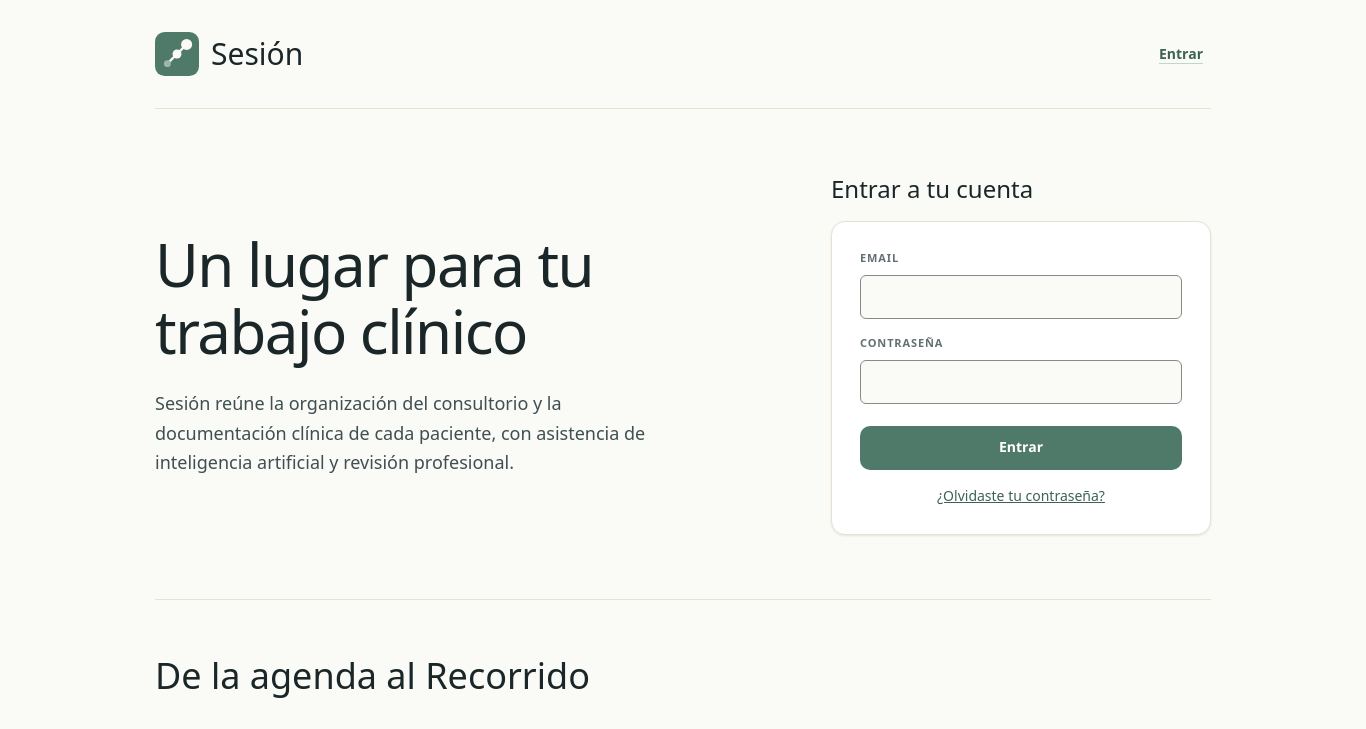
Test: Pantalla de entrada › al entrar borra la agenda local de quien estuvo antes, y no si el ingreso falla
Type "prueba@example.test" into the field labelled "Email" at (1021, 297), box [861,276,1181,318]
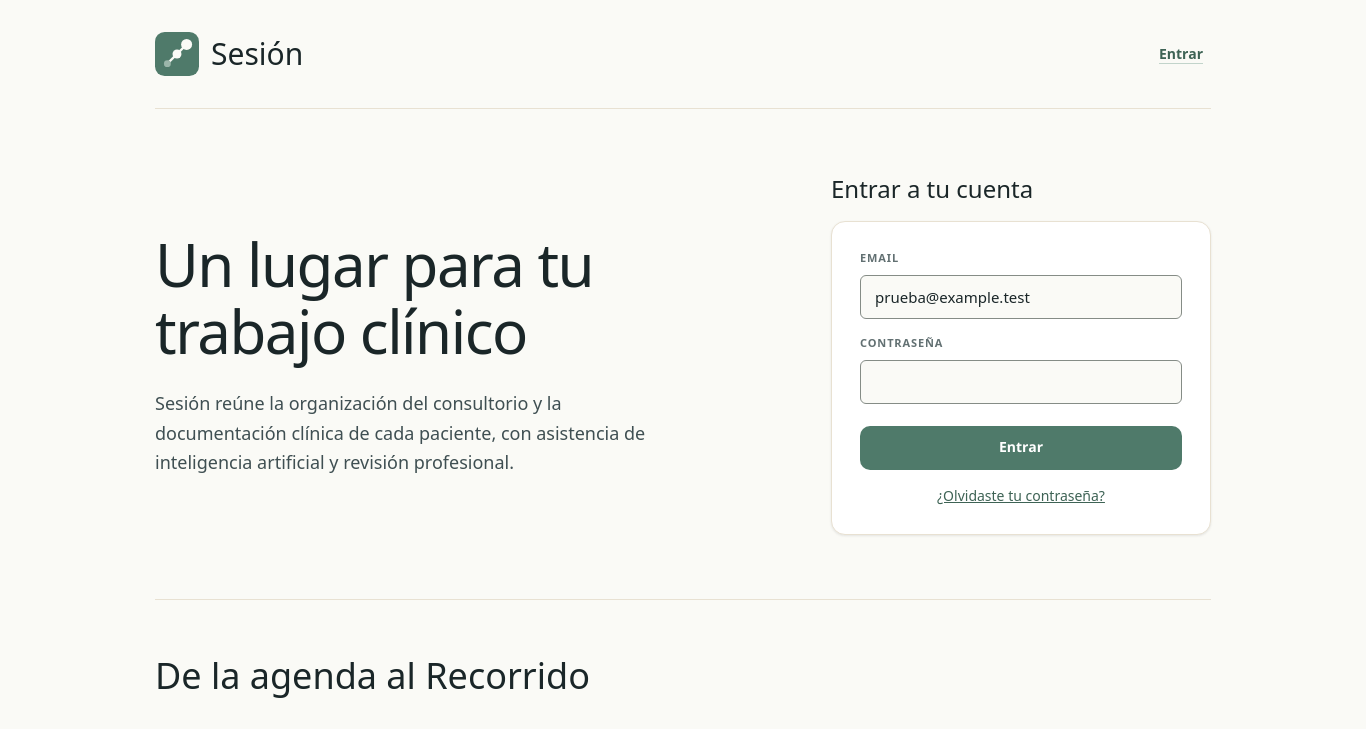
Type "solo-prueba-local" into the password field labelled "Contraseña" at (1021, 382), box [861,360,1181,403]
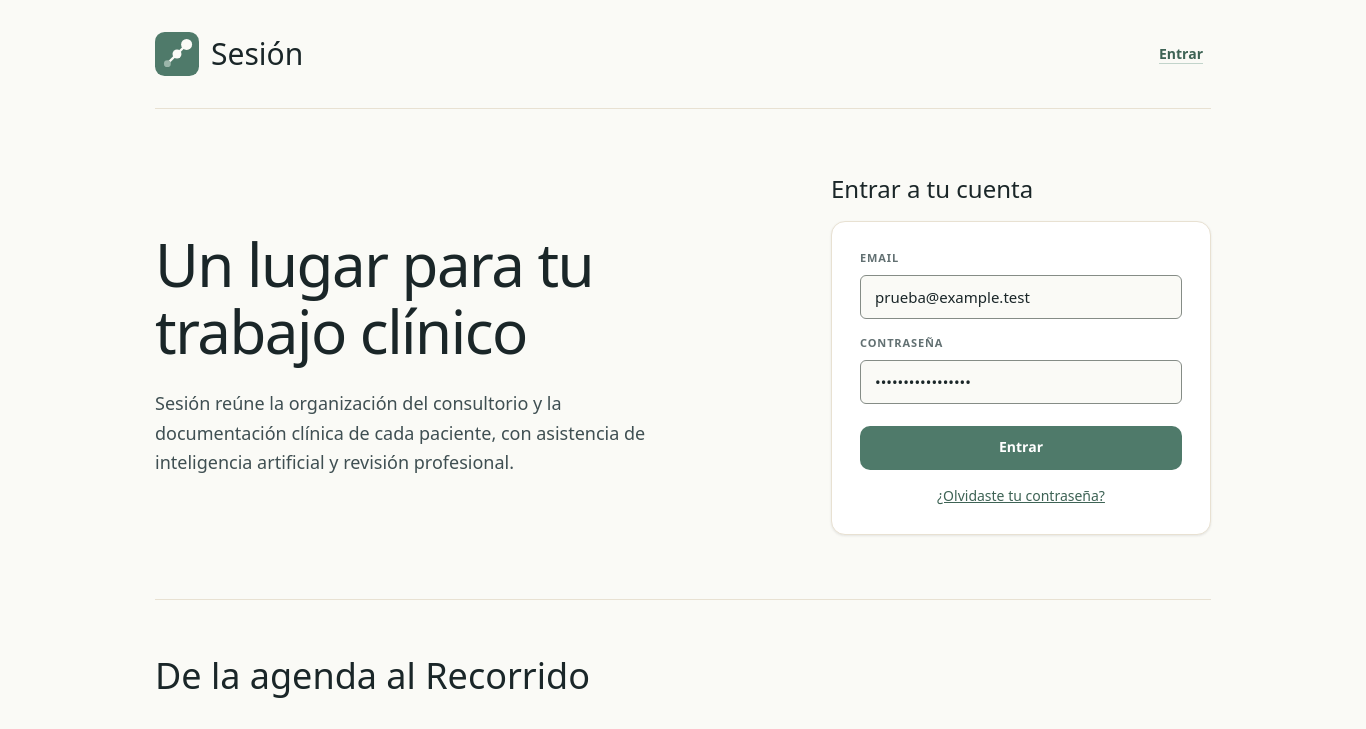
Submit the form labelled "Email", box [860,250,1182,506]
Submit the form labelled "Email", box [860,250,1182,506]
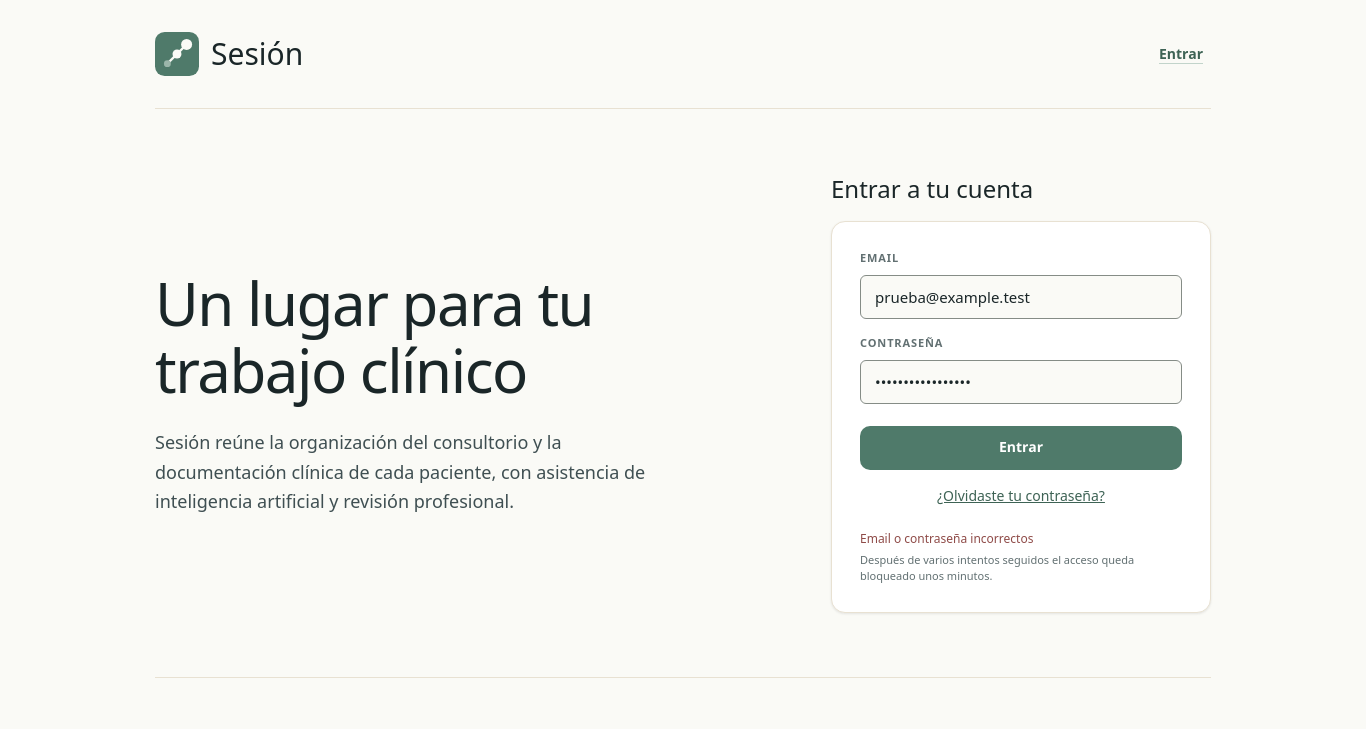
Result: the text "Email o contraseña incorrectos" is shown at [860,530,1033,547]
